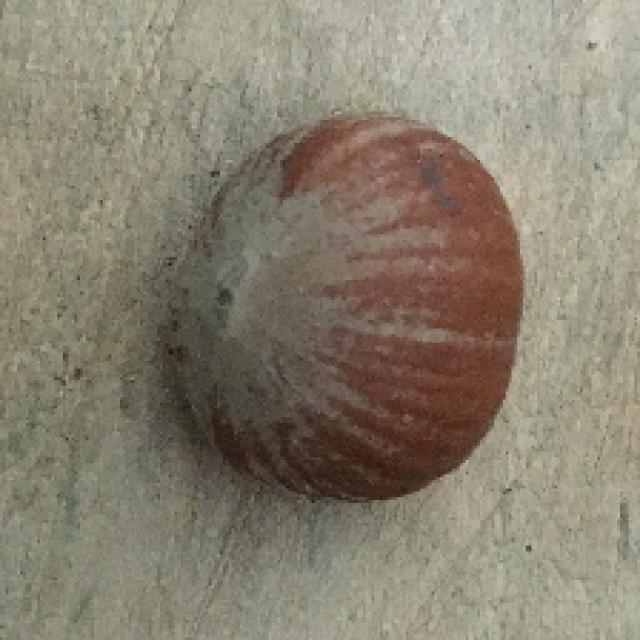qualityHazelnut: (152, 106, 524, 510)
